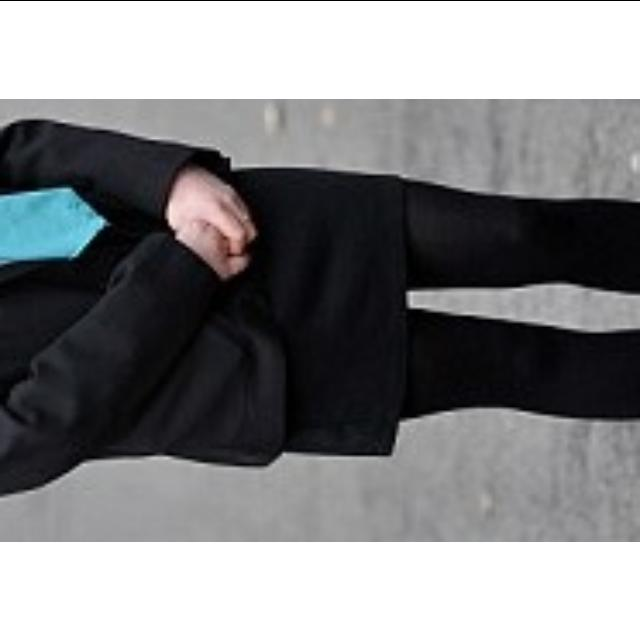polyester: (0, 122, 640, 504)
